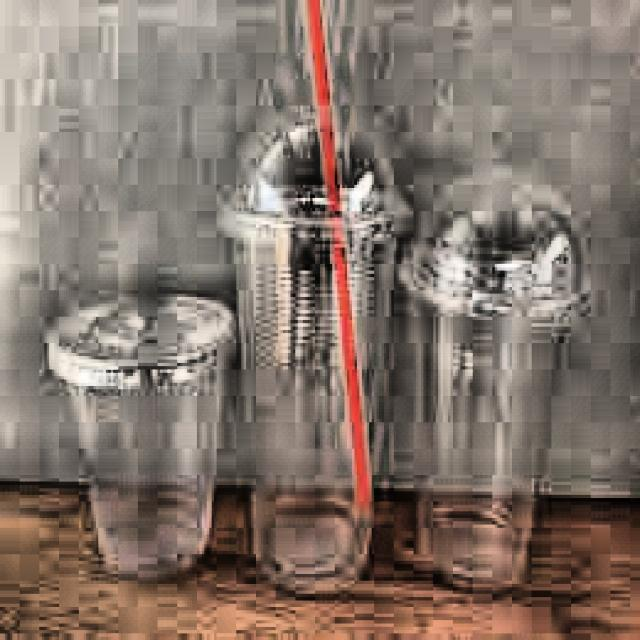plastic cup: (223, 232, 400, 582), (49, 289, 231, 572), (414, 289, 549, 582)
